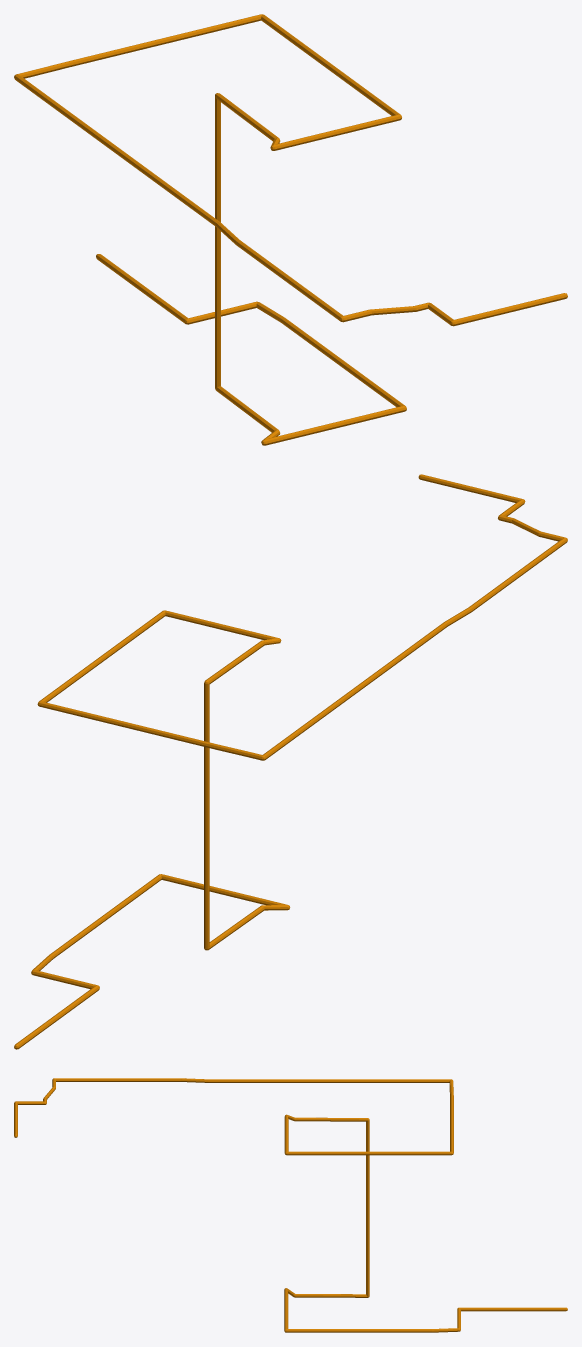
3 views of the same model, one above another, from view 1: azimuth 30°, elevation 25°; view 2: azimuth 150°, elevation 25°; view 3: azimuth 270°, elevation 25° (orthographic). The views are drawn at different scales.
Bounding box in the file's own units: 928 × 1020 × 2850.
